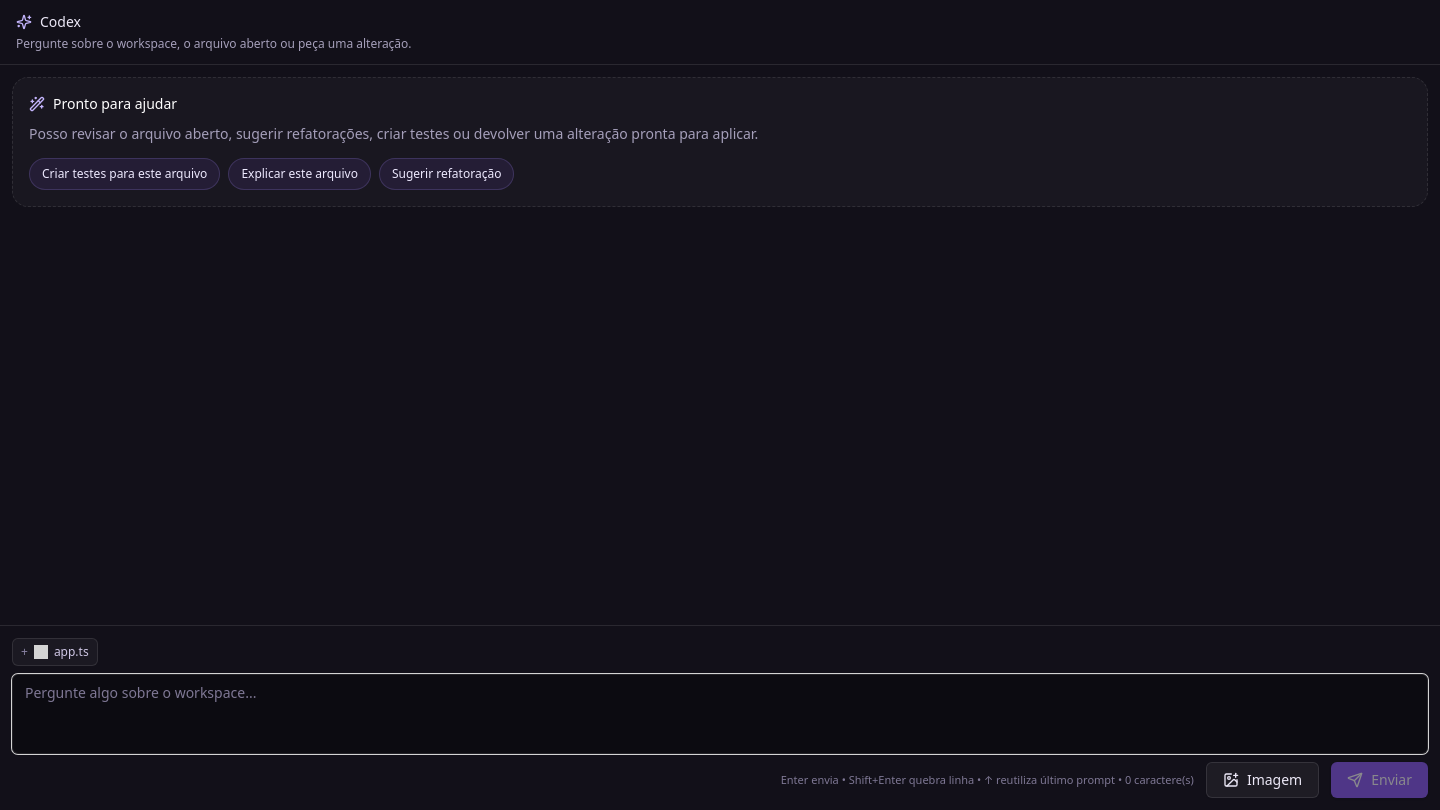
Test: <AssistantPanel /> › envia uma mensagem e mostra a resposta no painel
In the text box with placeholder "Pergunte algo sobre o workspace...": (720, 714) [12,674,1428,754], type "como melhorar isso?"
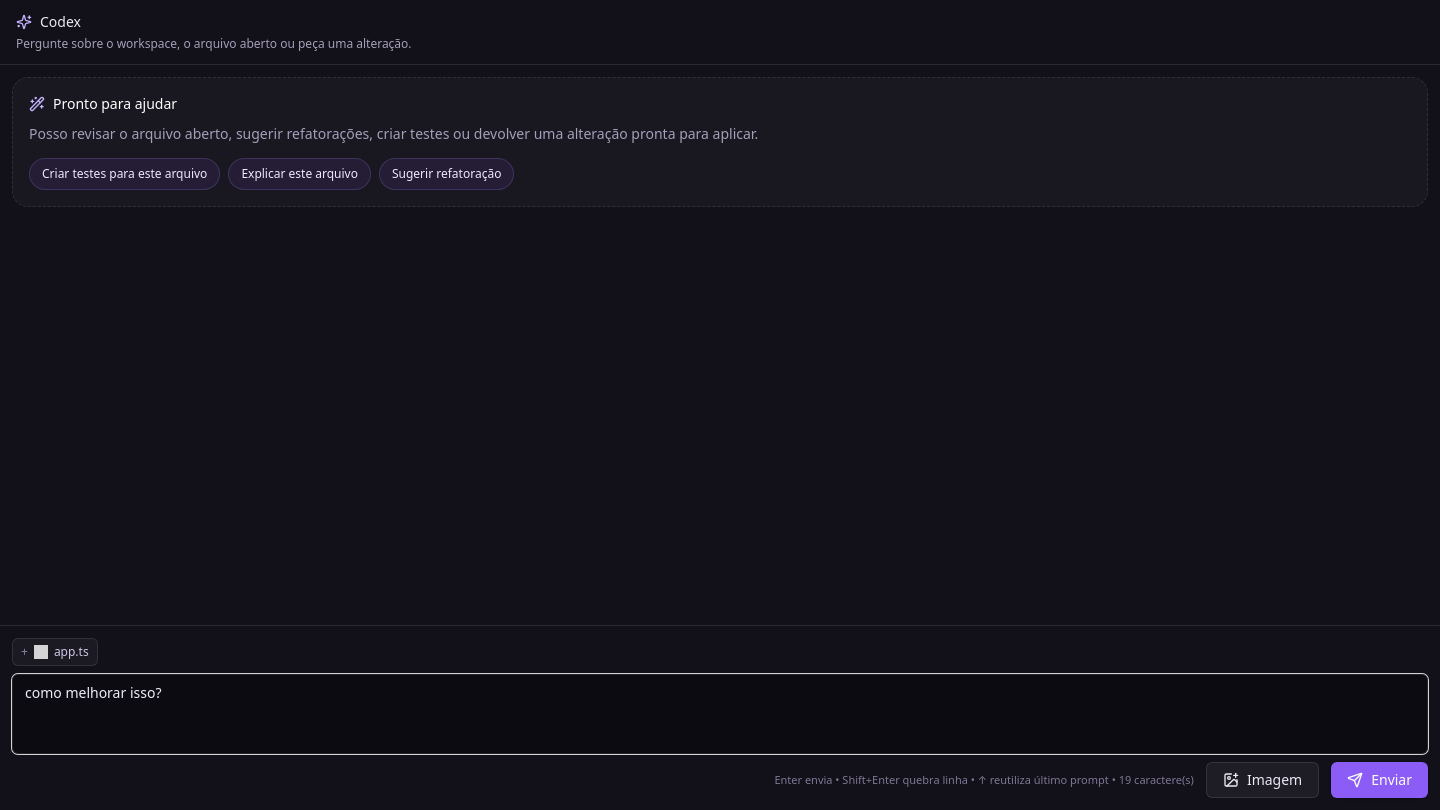
Click the button "Enviar": (1380, 780) [1331,762,1428,798]
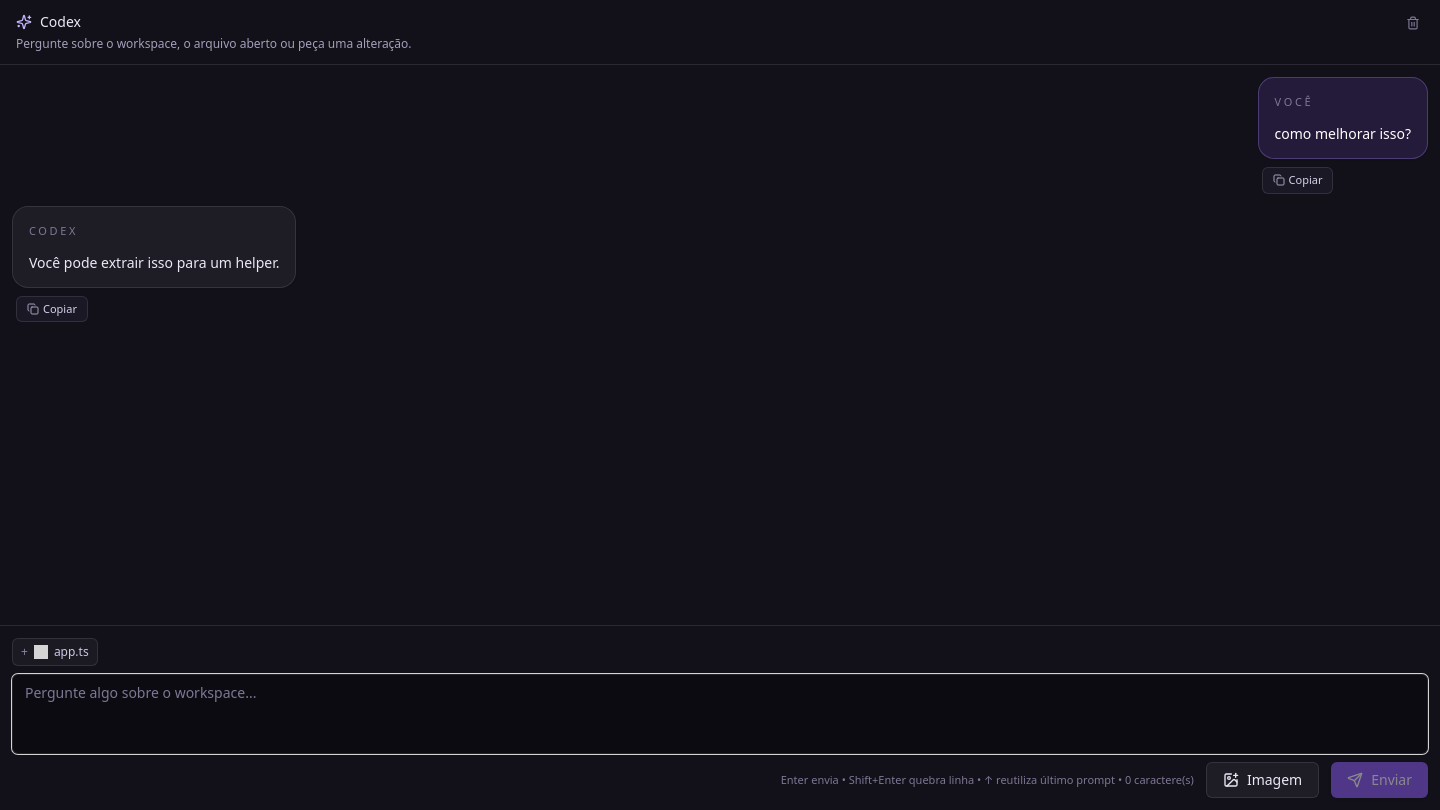
Expected: the text "como melhorar isso?" is shown, [1274,122,1411,146]
Expected: the text "Você pode extrair isso para um helper." is shown, [29,250,280,274]
